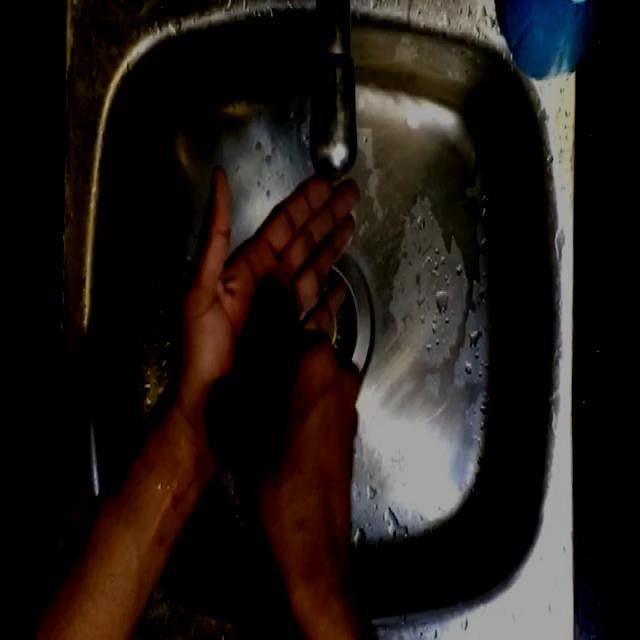step_6: (171, 157, 370, 520)
